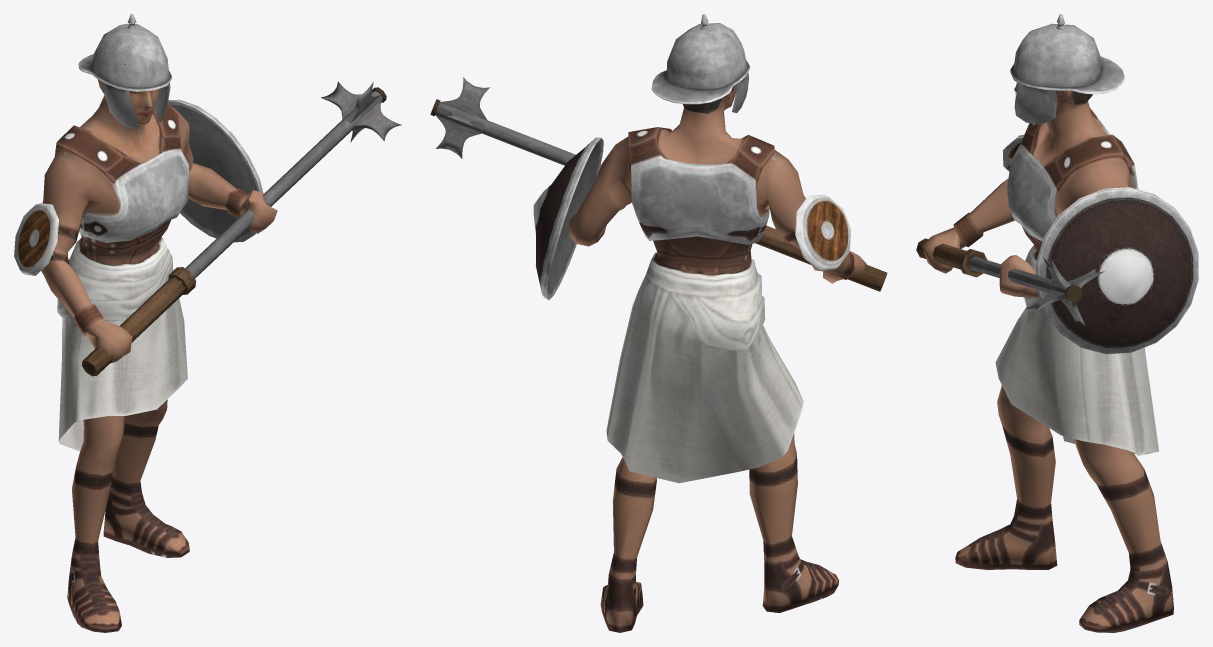
Rendered from 21-katapeltes.glb.
3 views of the same model, side by side, from view 1: azimuth 30°, elevation 25°; view 2: azimuth 150°, elevation 25°; view 3: azimuth 270°, elevation 25° (orthographic). The views are drawn at different scales.
Bounding box in the file's own units: 1.6 × 2.27 × 1.
Materials: 4 (4 with a texture image).
